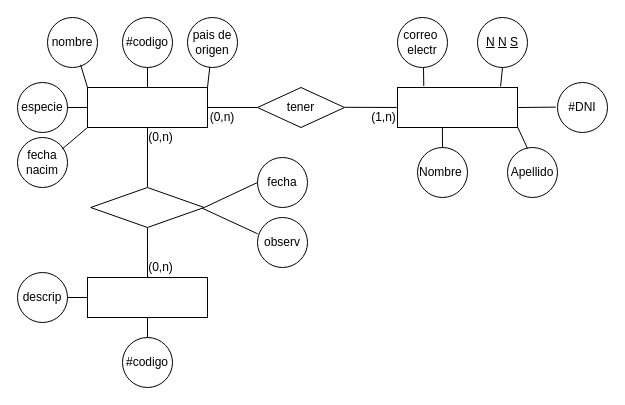
Image size: 625x405. Some labels were removed from this diagram. Here are the shapes that lost their labels. From the top down, the centre of each, then its label:
the point at 147,107: Animal
the point at 457,107: cuidador
the point at 147,207: pasar
the point at 147,297: Revision
